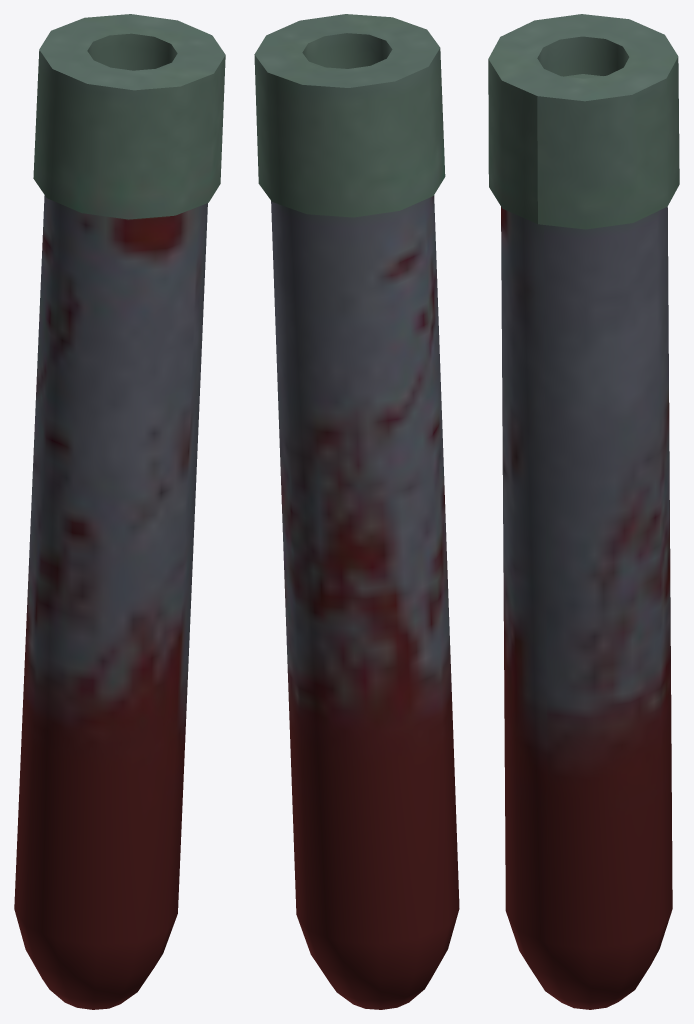
The model's file is BloodVial.fbx.
The picture shows the model from 3 angles, left to right: view 1: azimuth 30°, elevation 25°; view 2: azimuth 150°, elevation 25°; view 3: azimuth 270°, elevation 25°; orthographic projection. The views are drawn at different scales.
Parts seen in each view (by area): view 1: Object_60.001; view 2: Object_60.001; view 3: Object_60.001.
Boxes of the visible parts, bbox=[...] form: Object_60.001: bbox=[14, 14, 225, 1009]; Object_60.001: bbox=[254, 14, 459, 1009]; Object_60.001: bbox=[488, 14, 679, 1009].
Size of the model in its own units: 1.96 by 9.63 by 1.73.
